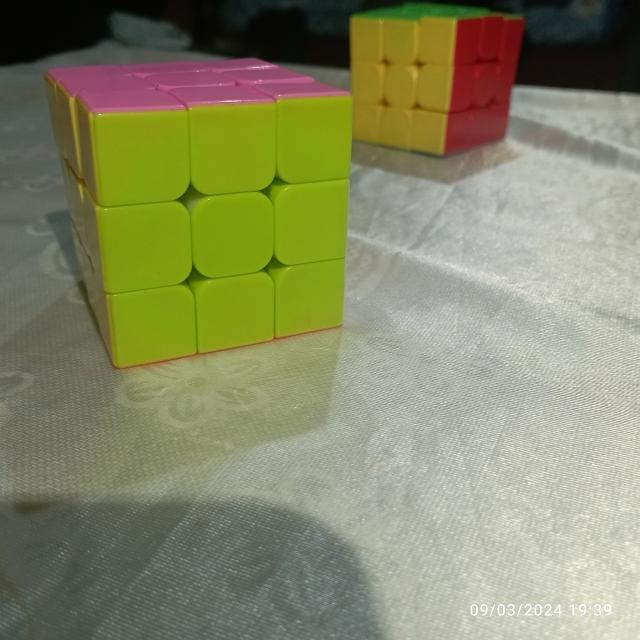Rub: (41, 53, 355, 370), (344, 0, 526, 162)
